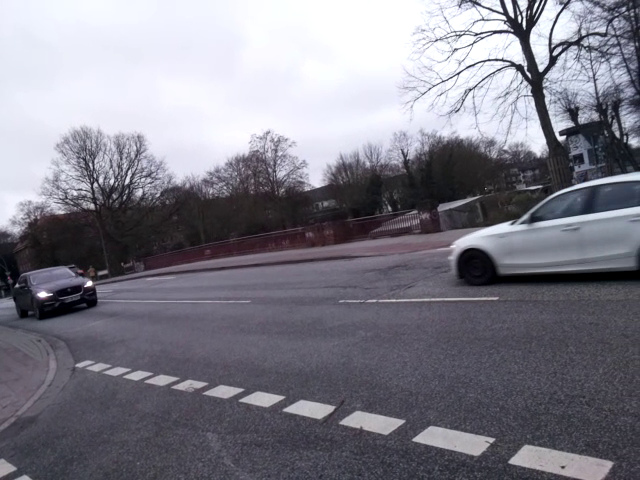car: (444, 175, 640, 287), (10, 253, 101, 325)
